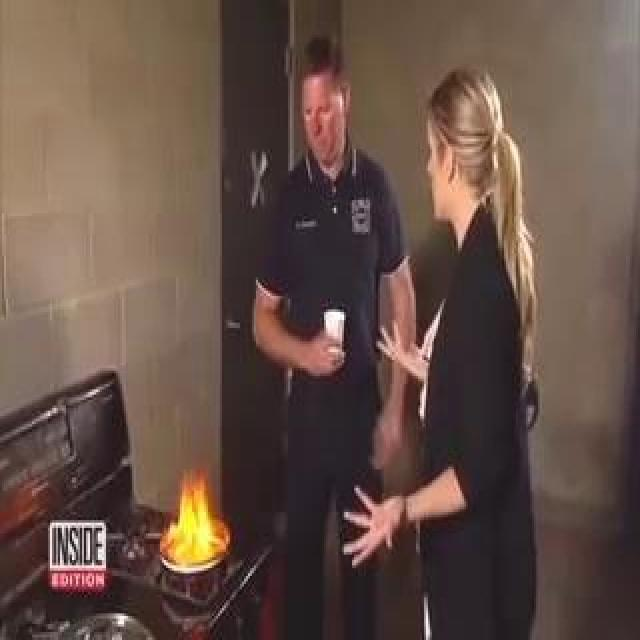Fire: (82, 144, 191, 526)
